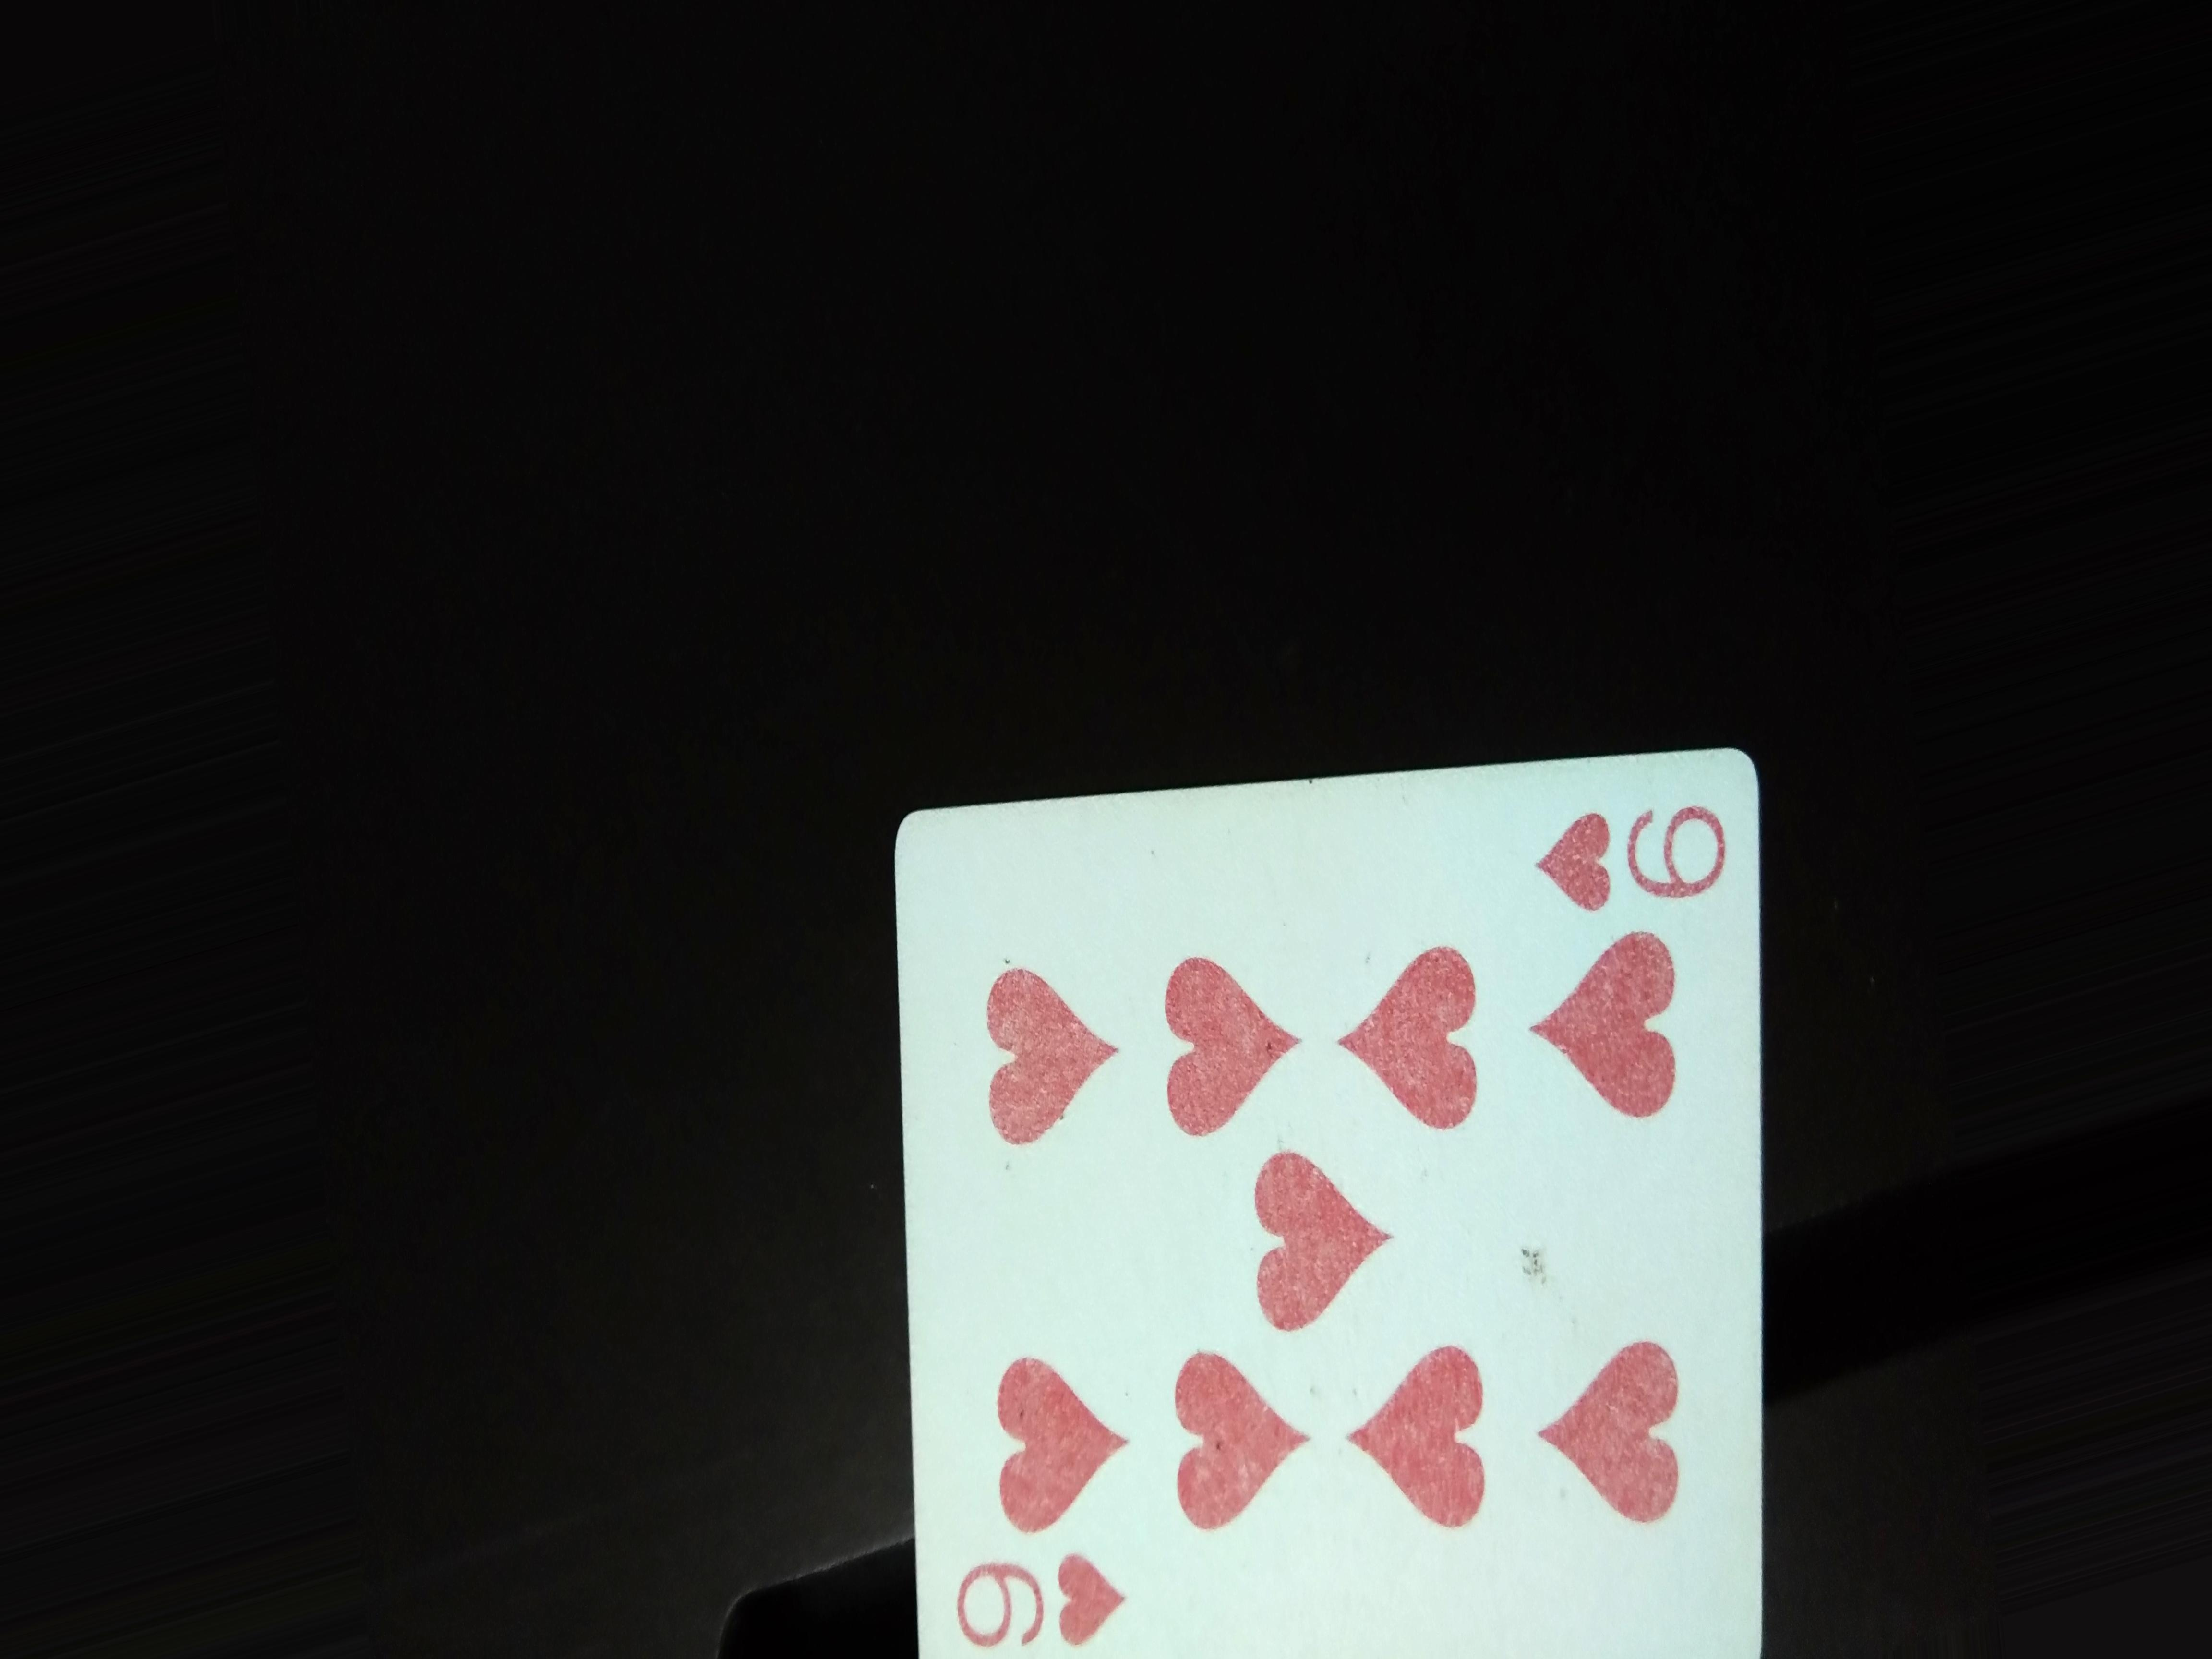9H: (1526, 767, 1735, 918)
